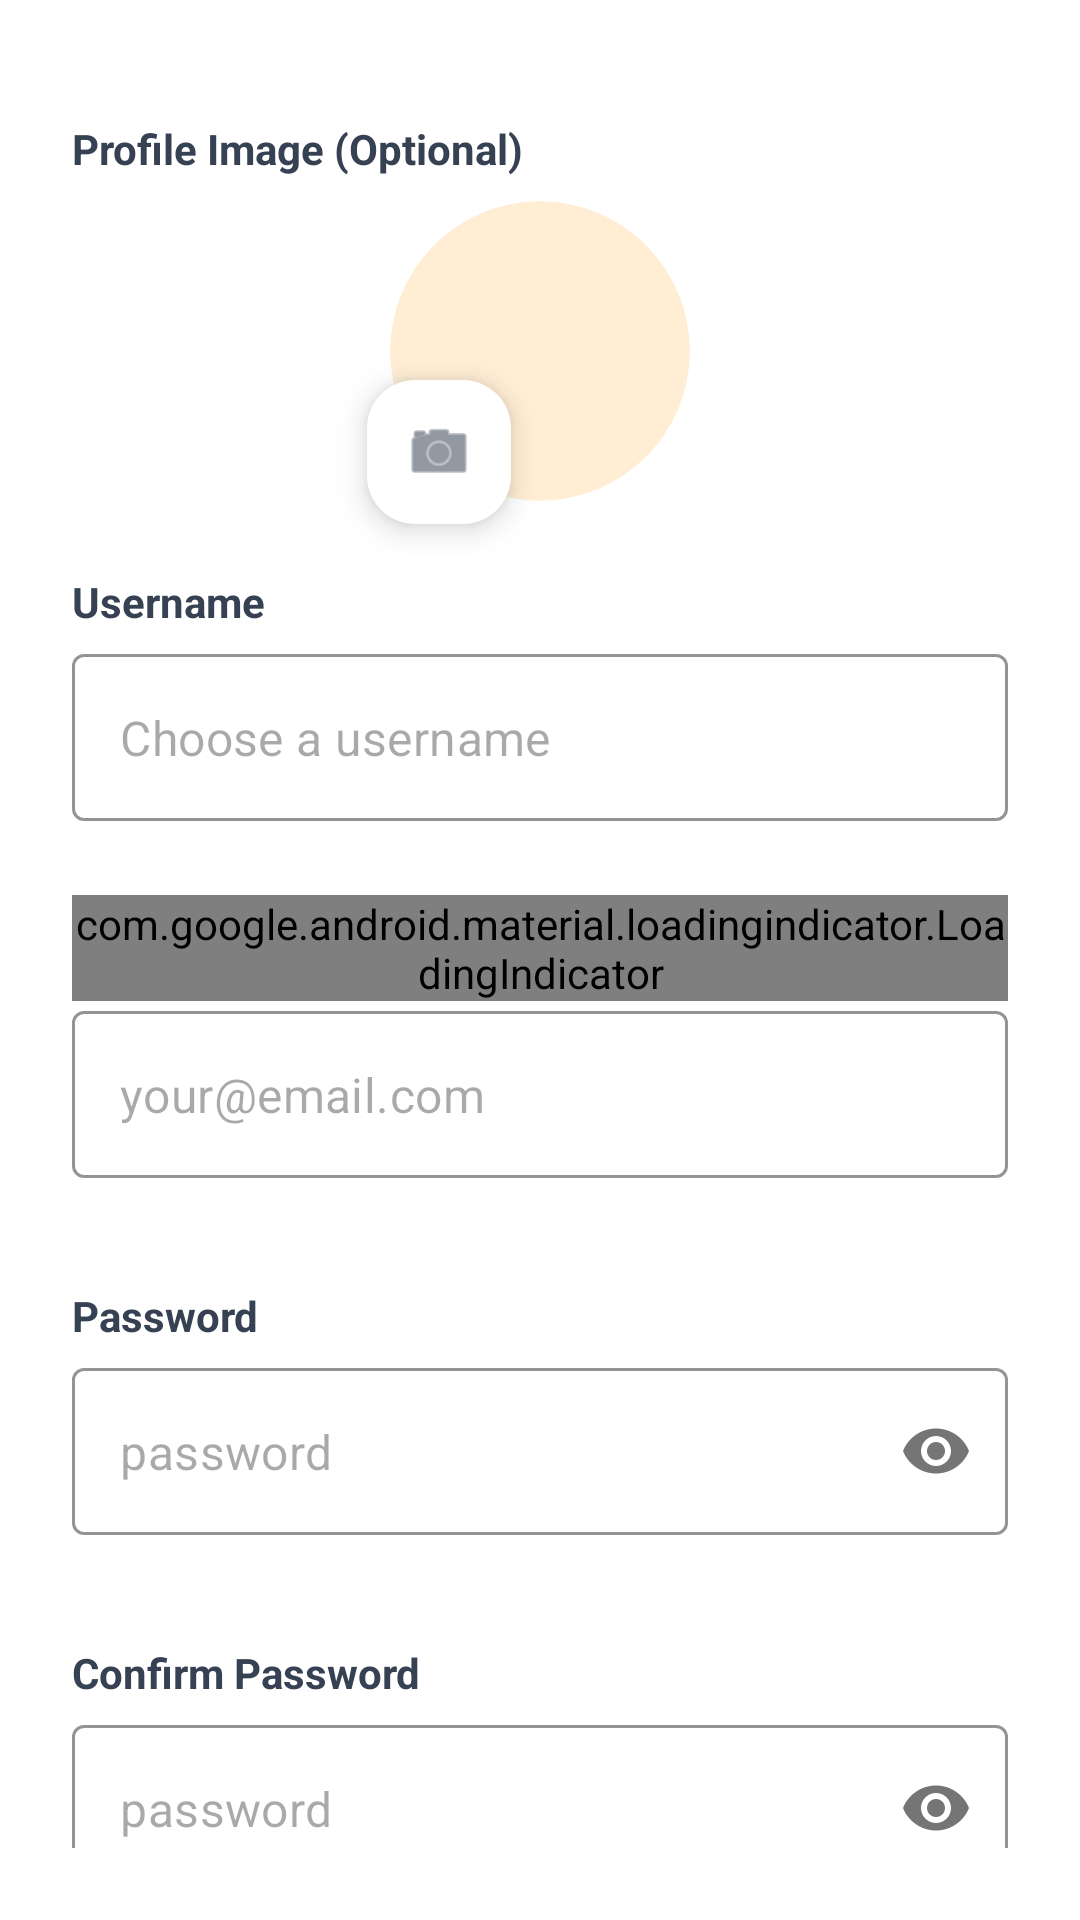

Named icons in this screenshot (1080px x 1920px) and their centers, [x,y]:
camera: [439,452]
